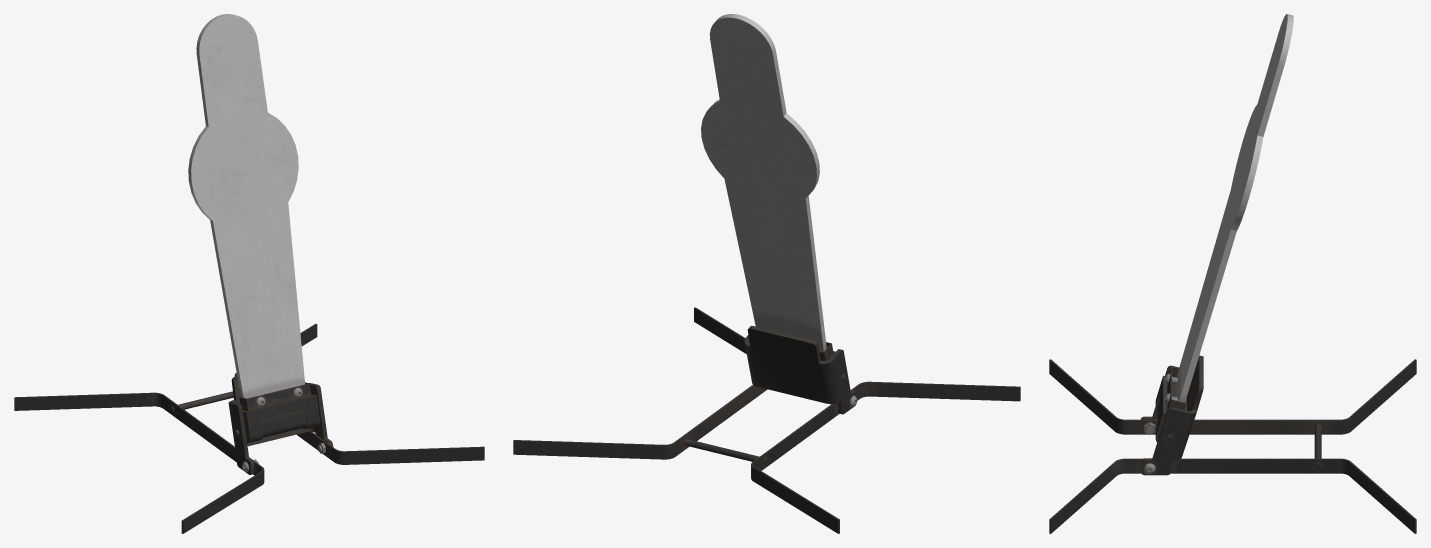
File: target_popper.glb
The picture shows the model from 3 angles, left to right: view 1: azimuth 30°, elevation 25°; view 2: azimuth 150°, elevation 25°; view 3: azimuth 270°, elevation 25°; orthographic projection. The views are drawn at different scales.
Visible parts, largest first — view 1: Popper_Target_TargetSet01_0, Popper_Stand_TargetSet01_0; view 2: Popper_Target_TargetSet01_0, Popper_Stand_TargetSet01_0; view 3: Popper_Stand_TargetSet01_0, Popper_Target_TargetSet01_0.
Boxes of the visible parts, x1=… form: Popper_Target_TargetSet01_0: x1=188, y1=14, x2=319, y2=443; Popper_Stand_TargetSet01_0: x1=14, y1=323, x2=484, y2=533; Popper_Target_TargetSet01_0: x1=701, y1=14, x2=835, y2=360; Popper_Stand_TargetSet01_0: x1=513, y1=307, x2=1020, y2=533; Popper_Stand_TargetSet01_0: x1=1049, y1=355, x2=1416, y2=533; Popper_Target_TargetSet01_0: x1=1155, y1=14, x2=1293, y2=442.
Bounding box in the file's own units: 0.5774 × 0.7314 × 0.5584.
1 material, 1 textured.
